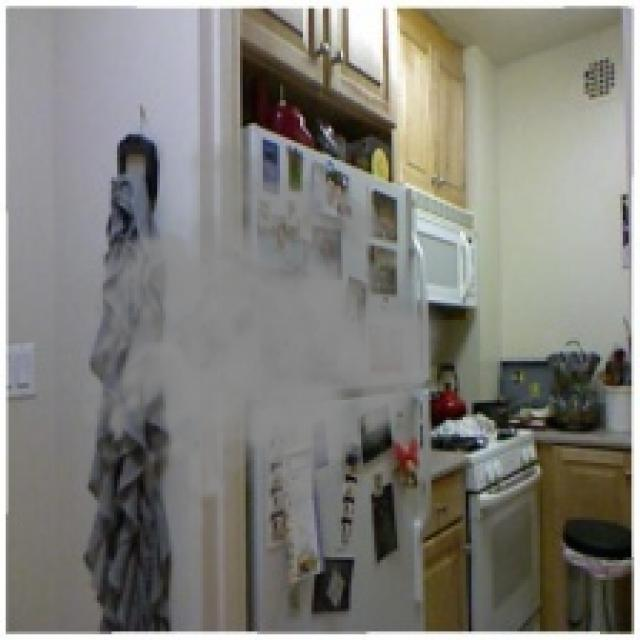smoke: (57, 134, 449, 540)
